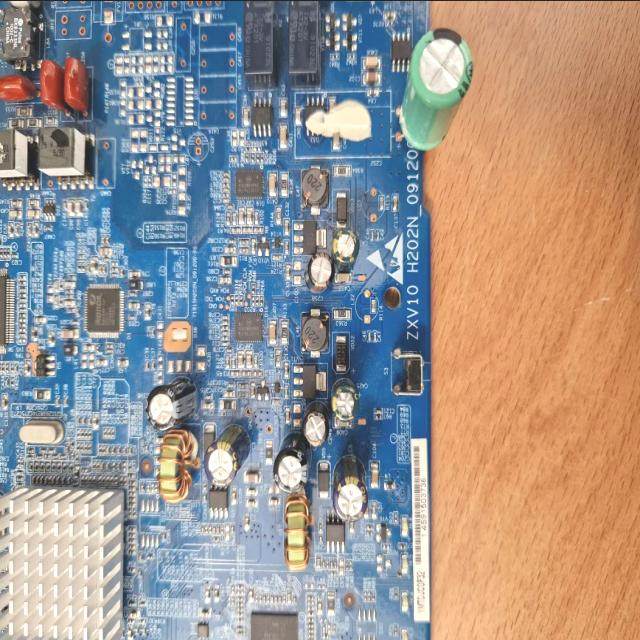A: (158, 432, 198, 502), (284, 494, 312, 568)
C: (400, 28, 472, 148), (205, 427, 249, 487), (146, 380, 196, 430), (274, 436, 310, 492), (334, 459, 366, 520), (304, 252, 334, 292), (332, 380, 359, 419), (302, 406, 328, 446), (332, 230, 358, 268)
